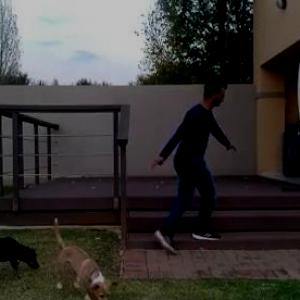land: (110, 67, 243, 261)
